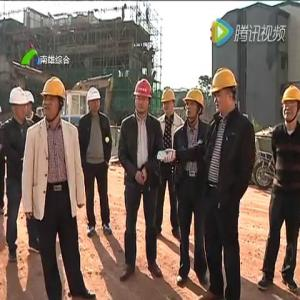red: (133, 78, 154, 116)
white: (9, 86, 28, 122), (87, 86, 101, 115), (24, 90, 35, 118)
yellow: (212, 67, 240, 114), (40, 74, 66, 124), (282, 84, 300, 125), (185, 90, 206, 124), (161, 87, 177, 117)
